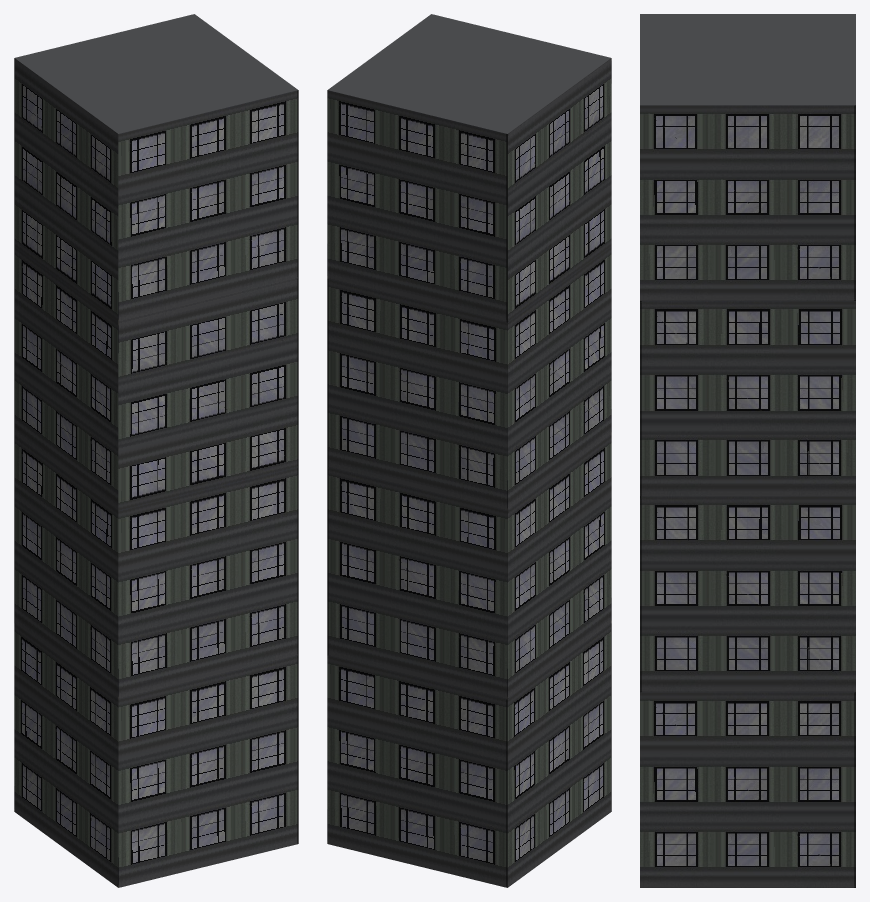
Rendered from 4story_1.glb.
3 views of the same model, side by side, from view 1: azimuth 30°, elevation 25°; view 2: azimuth 150°, elevation 25°; view 3: azimuth 270°, elevation 25° (orthographic). The views are drawn at different scales.
Parts seen in each view (by area): view 1: skyscraper_four_1; view 2: skyscraper_four_1; view 3: skyscraper_four_1.
Part boxes in pixels (x1,y1,x2,y2): skyscraper_four_1: [14, 14, 298, 887]; skyscraper_four_1: [327, 14, 611, 887]; skyscraper_four_1: [640, 14, 855, 887].
Size of the model in its own units: 20 by 80 by 20.
Materials: 1 (1 with a texture image).
